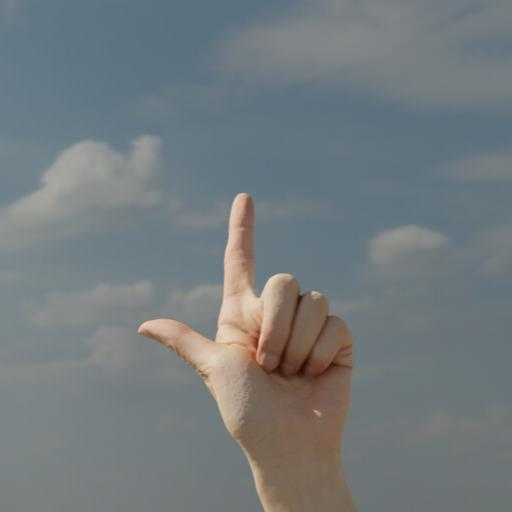L: (126, 184, 376, 474)
